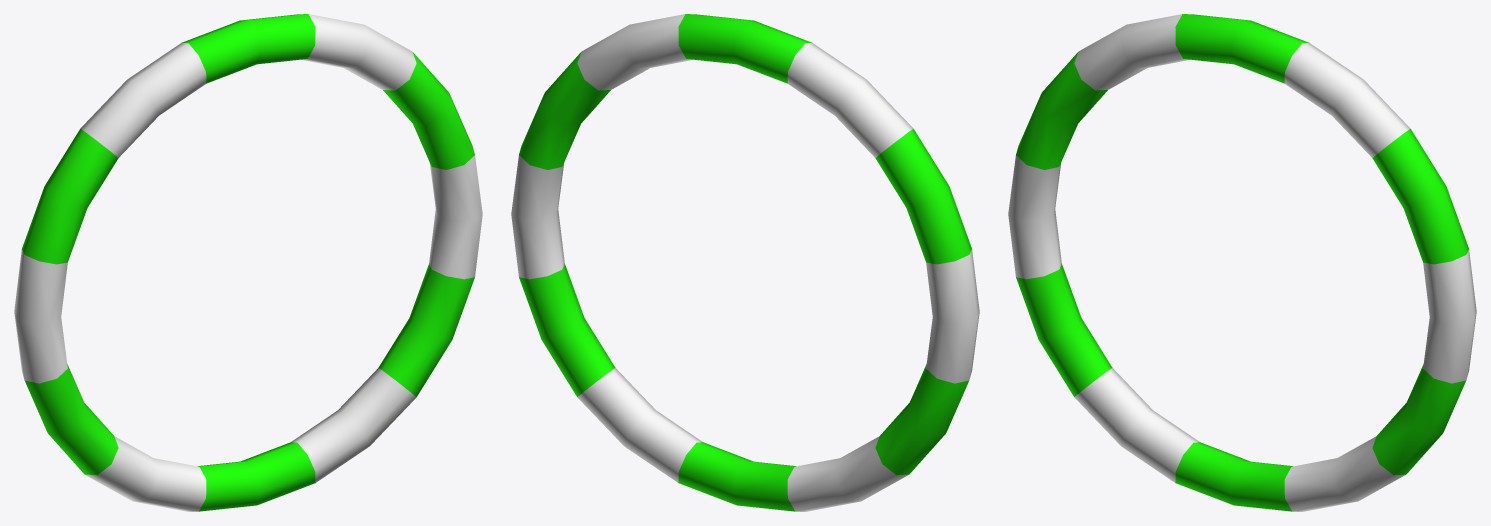
Rendered from D_FBX_14_Ring_C.fbx.
The picture shows the model from 3 angles, left to right: view 1: azimuth 30°, elevation 25°; view 2: azimuth 150°, elevation 25°; view 3: azimuth 330°, elevation 25°; orthographic projection.
Parts seen in each view (by area): view 1: D_FBX_14_Ring_C; view 2: D_FBX_14_Ring_C; view 3: D_FBX_14_Ring_C.
Part boxes in pixels (<box>): D_FBX_14_Ring_C: <box>14,14,482,511</box>; D_FBX_14_Ring_C: <box>511,14,979,511</box>; D_FBX_14_Ring_C: <box>1008,14,1476,511</box>.
Bounding box in the file's own units: 220 × 220 × 20.
